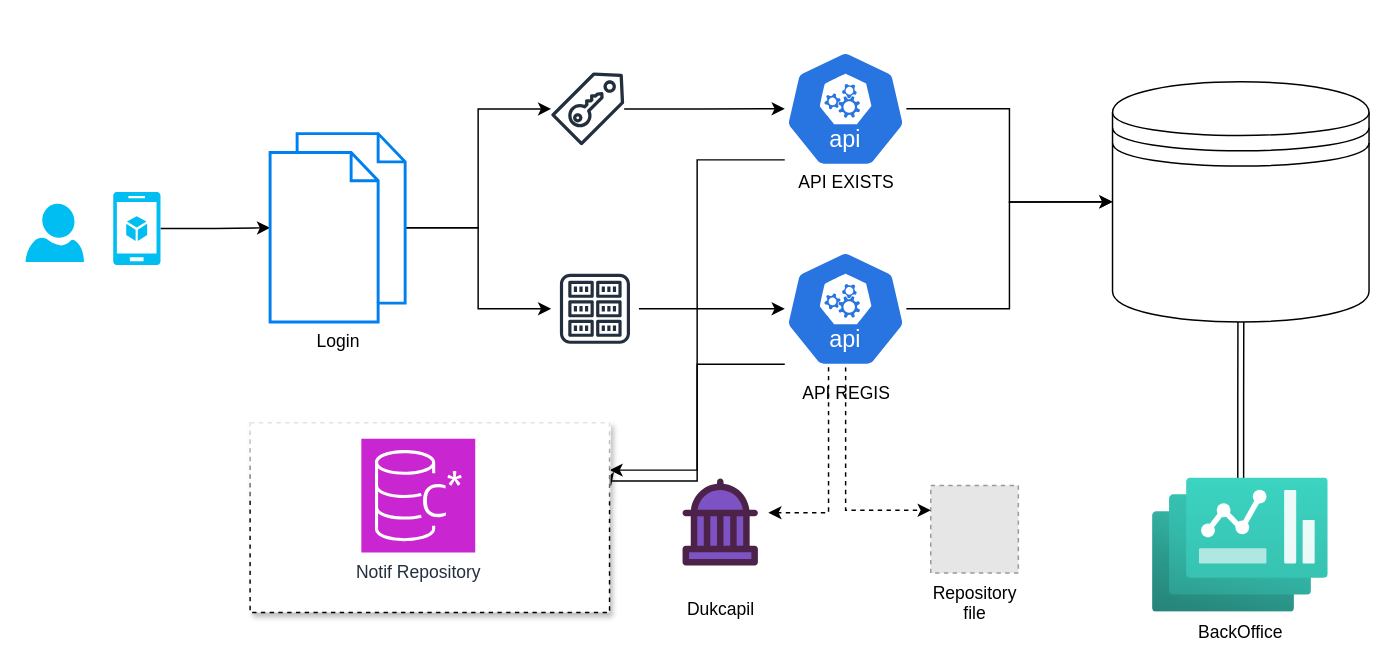
Image size: 1394x669. Some labels were removed from this diagram. Grey dashed boxes stand in for pictures. The centre of each missing label's shape, as x and y in pixels:
"Database Loan" belongs at (1240,201).
"Login Token/ Sign In" belongs at (586,108).
"Registry/Sign Up" belongs at (594,308).
